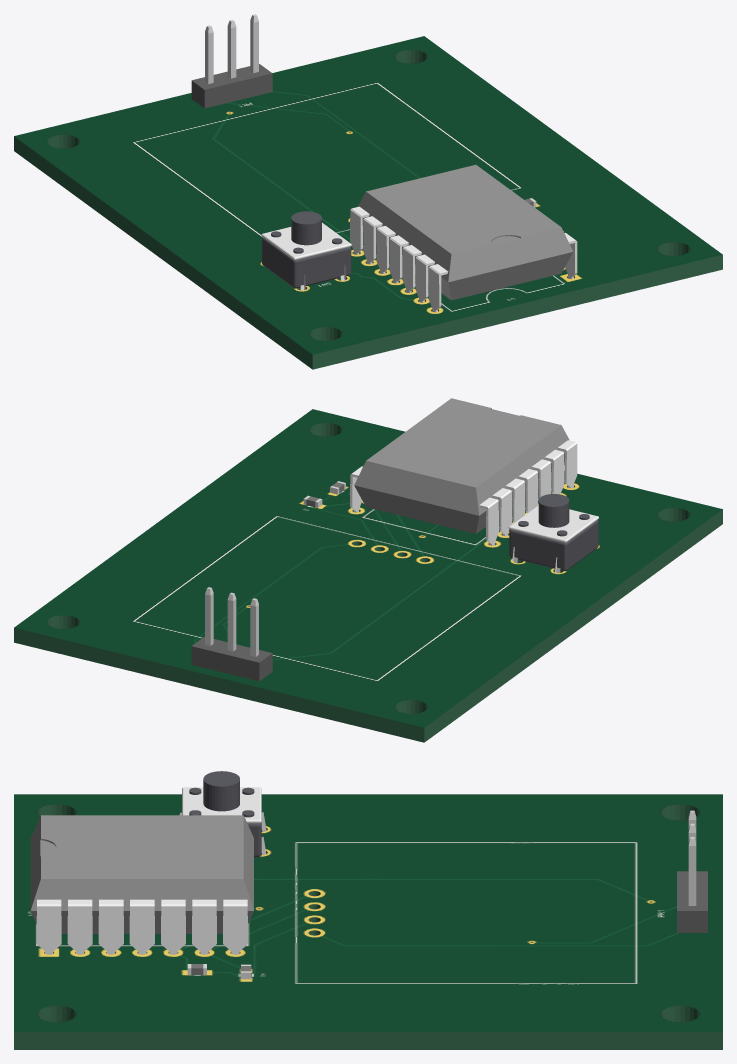
The model's file is board.glb.
3 views of the same model, one above another, from view 1: azimuth 30°, elevation 25°; view 2: azimuth 150°, elevation 25°; view 3: azimuth 270°, elevation 25° (orthographic). The views are drawn at different scales.
Parts seen in each view (by area): view 1: Box0, U1, SW1, PR1; view 2: Box0, U1, SW1, PR1; view 3: Box0, U1, SW1, PR1.
Boxes of the visible parts, box(x1,y1,x2,y2) form: Box0: box(14, 36, 722, 369); U1: box(350, 164, 577, 312); SW1: box(261, 211, 351, 290); PR1: box(191, 14, 272, 108); Box0: box(14, 409, 722, 742); U1: box(350, 398, 577, 545); SW1: box(508, 494, 598, 572); PR1: box(191, 587, 272, 681); Box0: box(14, 794, 722, 1049); U1: box(30, 815, 253, 954); SW1: box(179, 771, 266, 857); PR1: box(677, 810, 707, 932).
Size of the model in its own units: 46 by 11.82 by 58.
11 materials, 2 textured.
